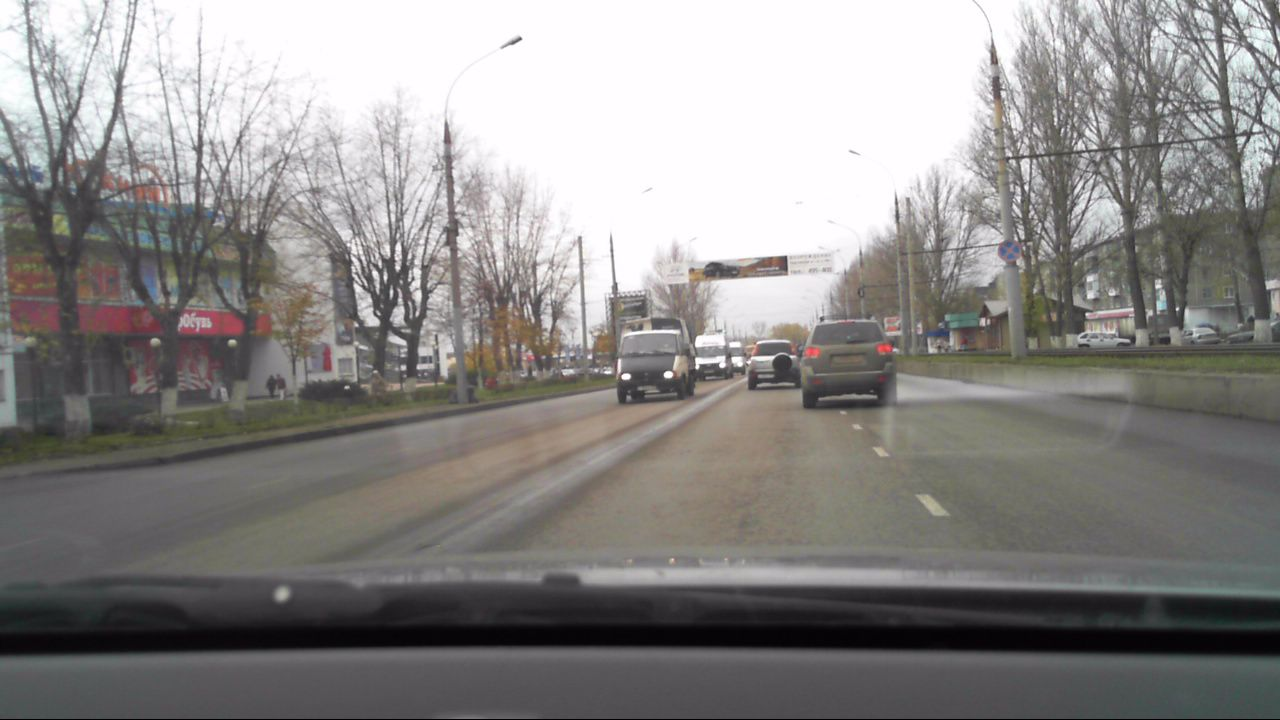No Parking: (995, 235, 1024, 266)
